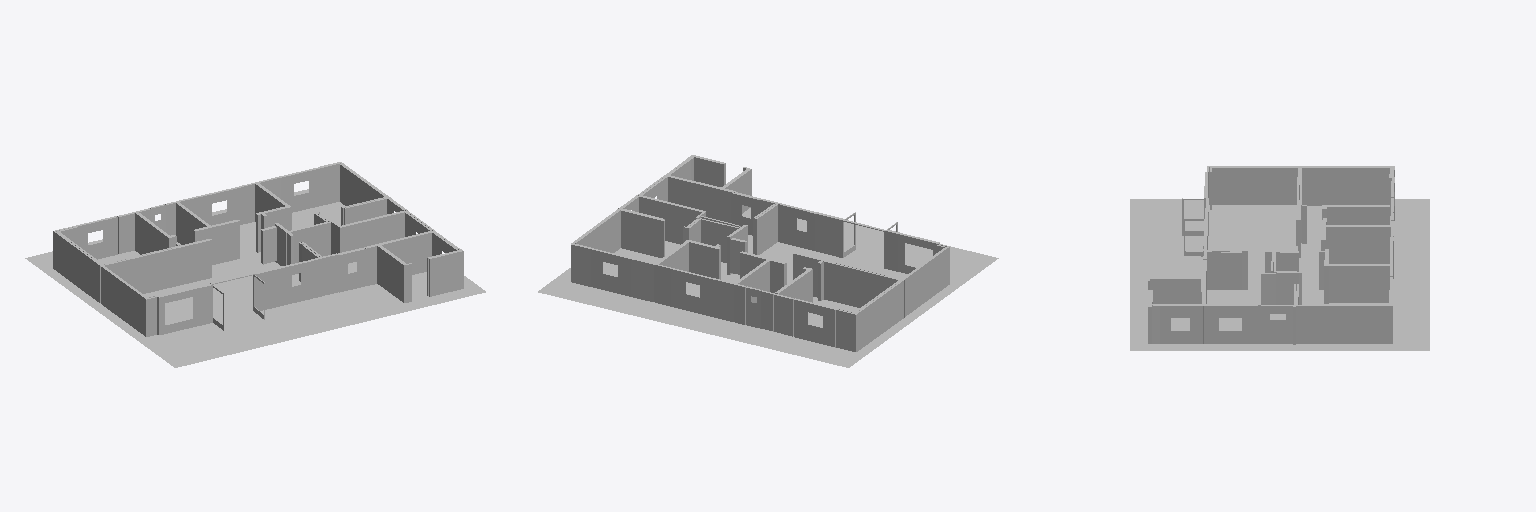
Rendered from House plant.obj.
3 renders of one model, left to right at view 1: azimuth 30°, elevation 25°; view 2: azimuth 150°, elevation 25°; view 3: azimuth 270°, elevation 25°, orthographic.
Visible parts, largest first — view 1: Plane001, Wall110, Wall030, Wall010, Wall109, Wall100, Wall048, Wall051, wWall042, wWall044, wWall043, Wall078 (+15 smaller); view 2: Plane001, Wall109, Wall072, Wall110, Wall033, wWall045, wWall047, Wall061, wWall046, Wall043, Wall103, Wall059 (+17 smaller); view 3: Plane001, Wall032, Wall107, Wall108, Wall002, Wall013, Wall112, Wall026, Wall098, Wall052, Wall093, Wall007 (+2 smaller).
Boxes of the visible parts, box(x1,y1,x2,y2) form: Plane001: box(25, 189, 485, 367); Wall110: box(101, 266, 156, 336); Wall030: box(331, 211, 406, 263); Wall010: box(101, 249, 172, 293); Wall109: box(53, 226, 100, 302); Wall100: box(365, 245, 410, 302); Wall048: box(172, 239, 211, 286); Wall051: box(429, 250, 463, 296); wWall042: box(281, 167, 321, 212); wWall044: box(75, 217, 117, 259); wWall043: box(199, 187, 240, 225); Wall078: box(212, 220, 239, 264); Plane001: box(538, 208, 998, 367); Wall109: box(835, 280, 903, 351); Wall072: box(824, 261, 899, 307); Wall110: box(903, 244, 949, 317); Wall033: box(618, 209, 664, 257); wWall045: box(794, 299, 835, 347); wWall047: box(671, 269, 712, 316); Wall061: box(639, 196, 702, 244); wWall046: box(591, 249, 631, 296); Wall043: box(693, 182, 732, 222); Wall103: box(683, 218, 742, 262); Wall059: box(575, 210, 620, 252); Plane001: box(1130, 199, 1429, 350); Wall032: box(1297, 305, 1391, 343); Wall107: box(1297, 167, 1391, 215); Wall108: box(1210, 167, 1296, 209); Wall002: box(1326, 226, 1390, 263); Wall013: box(1329, 265, 1389, 302); Wall112: box(1203, 305, 1258, 343); Wall026: box(1159, 305, 1202, 343); Wall098: box(1207, 251, 1241, 289); Wall052: box(1148, 273, 1203, 303); Wall093: box(1259, 305, 1297, 343); Wall007: box(1322, 206, 1389, 224).
Size of the model in its own units: 828 by 99.24 by 691.